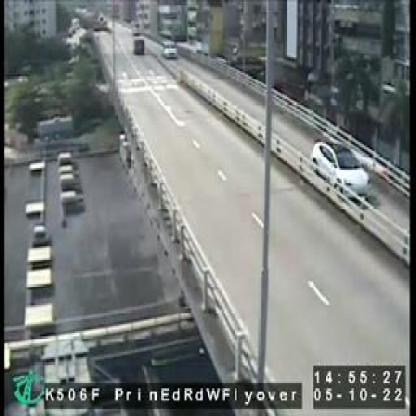Car: (308, 139, 369, 199), (160, 38, 175, 59)
